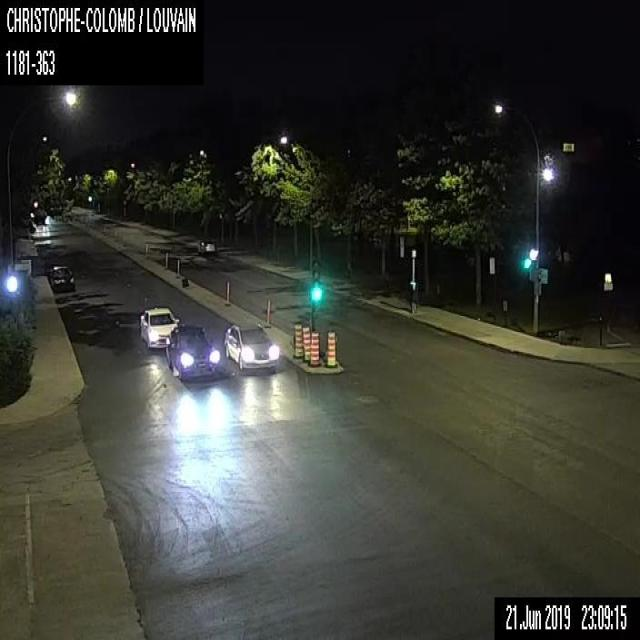construction: (292, 320, 303, 357), (299, 323, 309, 361), (324, 327, 334, 365), (309, 329, 319, 364)
vehicle: (165, 324, 218, 379), (223, 323, 277, 371), (138, 305, 178, 350), (47, 263, 75, 292), (196, 236, 216, 255)
